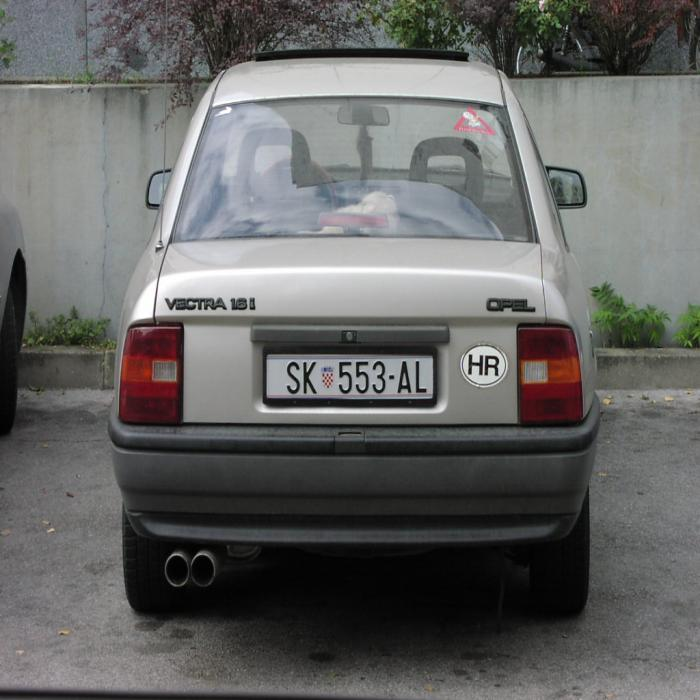number_plate: (264, 354, 432, 398)
